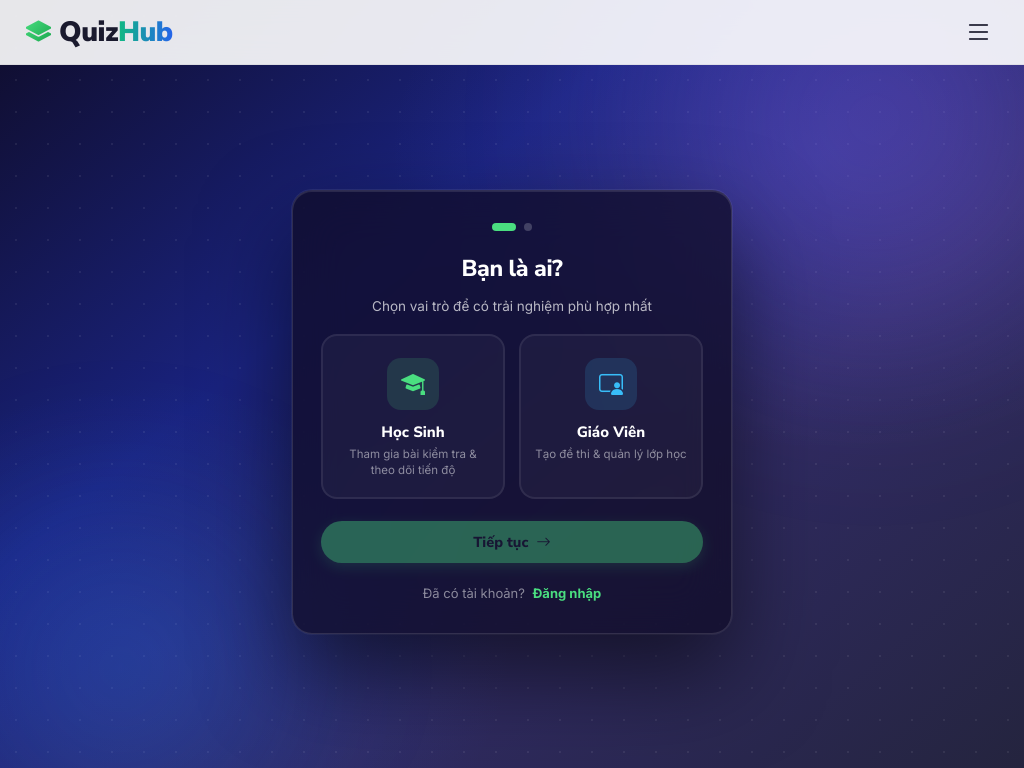
Test: RegisterPage Component - V1 2-Step Parity and Auth Behavior › 3. selects STUDENT role and enables Next button
The width and height of the screenshot is (1024, 768).
What coordinates should you click on to do the following:
click the radio button labelled "Học Sinh Tham gia bài kiểm tra & theo dõi tiến độ"
I would click on:
 (413, 416)
Its box is x1=321 y1=334 x2=505 y2=499.
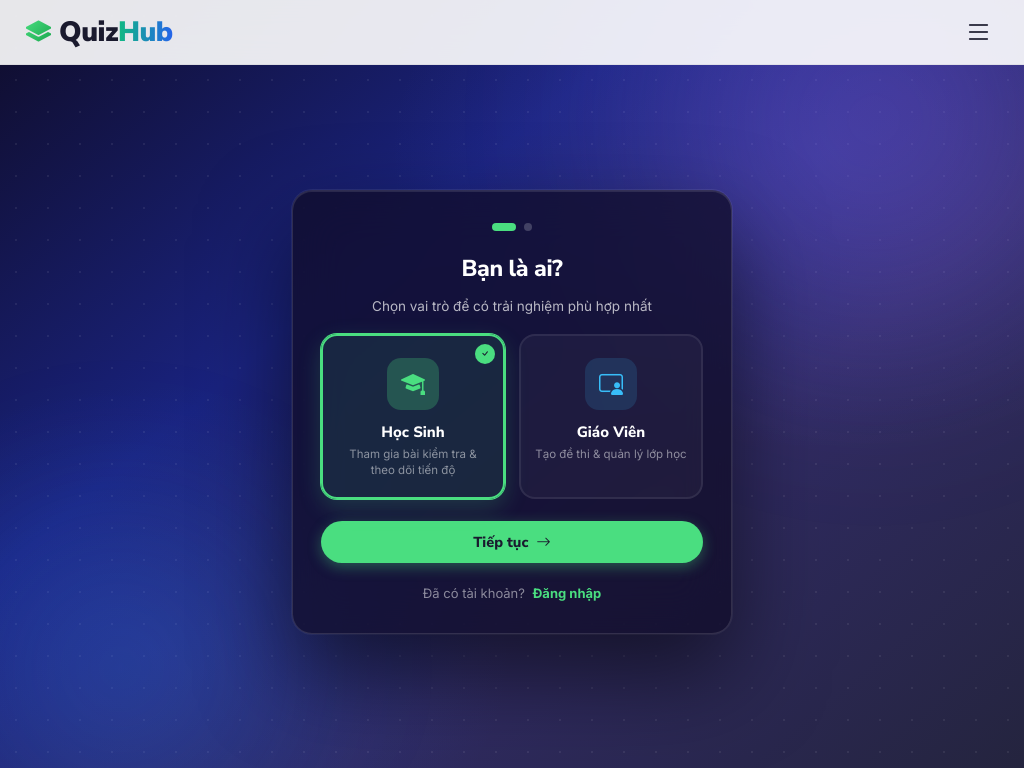
Check: the button "Tiếp tục" is enabled, box x1=321 y1=521 x2=703 y2=563
